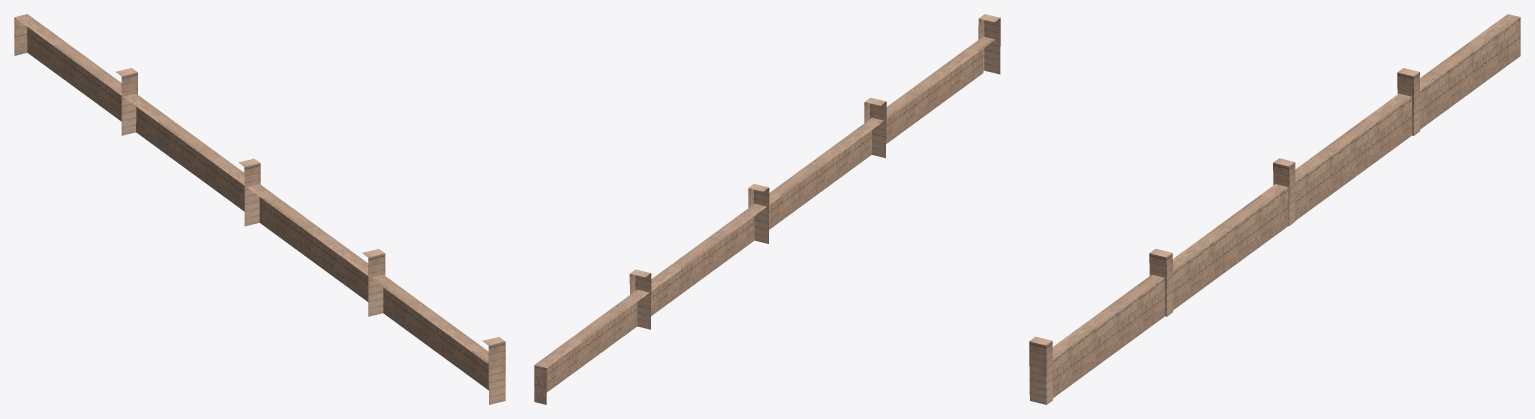
File: lodbyhswall05_lvs.obj
The picture shows the model from 3 angles, left to right: view 1: azimuth 30°, elevation 25°; view 2: azimuth 150°, elevation 25°; view 3: azimuth 330°, elevation 25°; orthographic projection. The views are drawn at different scales.
Visible parts, largest first — view 1: lodbyhswall05_lvs; view 2: lodbyhswall05_lvs; view 3: lodbyhswall05_lvs.
Boxes of the visible parts, box(x1,y1,x2,y2) form: lodbyhswall05_lvs: box(14, 14, 505, 404); lodbyhswall05_lvs: box(534, 14, 1000, 404); lodbyhswall05_lvs: box(1029, 14, 1520, 404).
Bounding box in the file's own units: 0.6346 × 2.06 × 29.86.
Materials: 2 (2 with a texture image).
